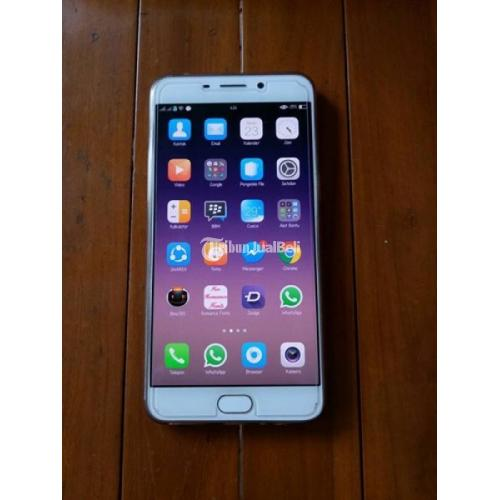Handphone: (144, 72, 329, 427)
